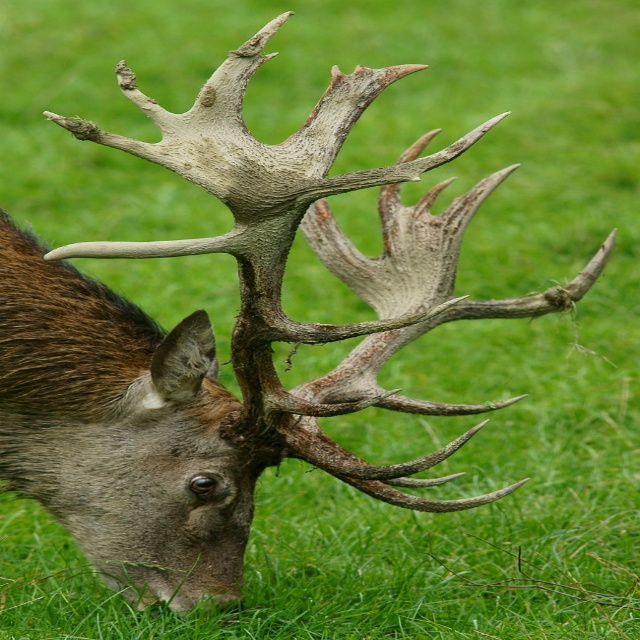Deer: (0, 11, 620, 623)
